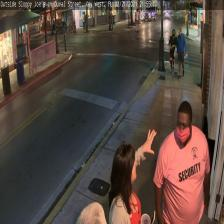person: (153, 100, 209, 224), (107, 127, 158, 223)
